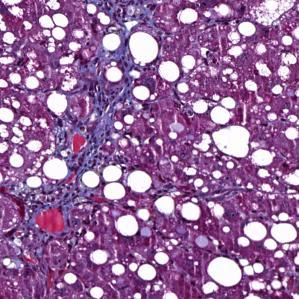fibrosis: (74, 63, 141, 141), (28, 156, 95, 216)
